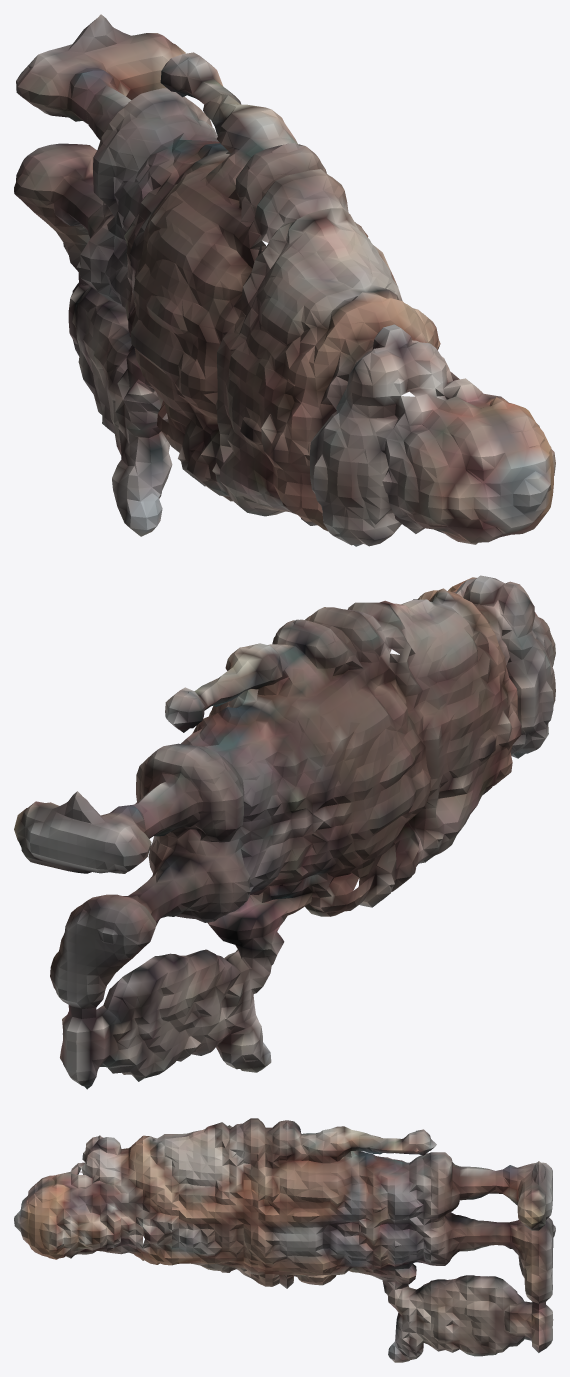
File: prehist_commoner_f_0.glb
3 renders of one model, top to bottom at view 1: azimuth 30°, elevation 25°; view 2: azimuth 150°, elevation 25°; view 3: azimuth 270°, elevation 25°, orthographic. The views are drawn at different scales.
Parts seen in each view (by area): view 1: world; view 2: world; view 3: world.
Boxes of the visible parts, x1,y1,x2,y2 form: world: (14,14,555,546); world: (14,575,555,1089); world: (14,1118,555,1362).
Bounding box in the file's own units: 0.3121 × 0.5262 × 1.03.
